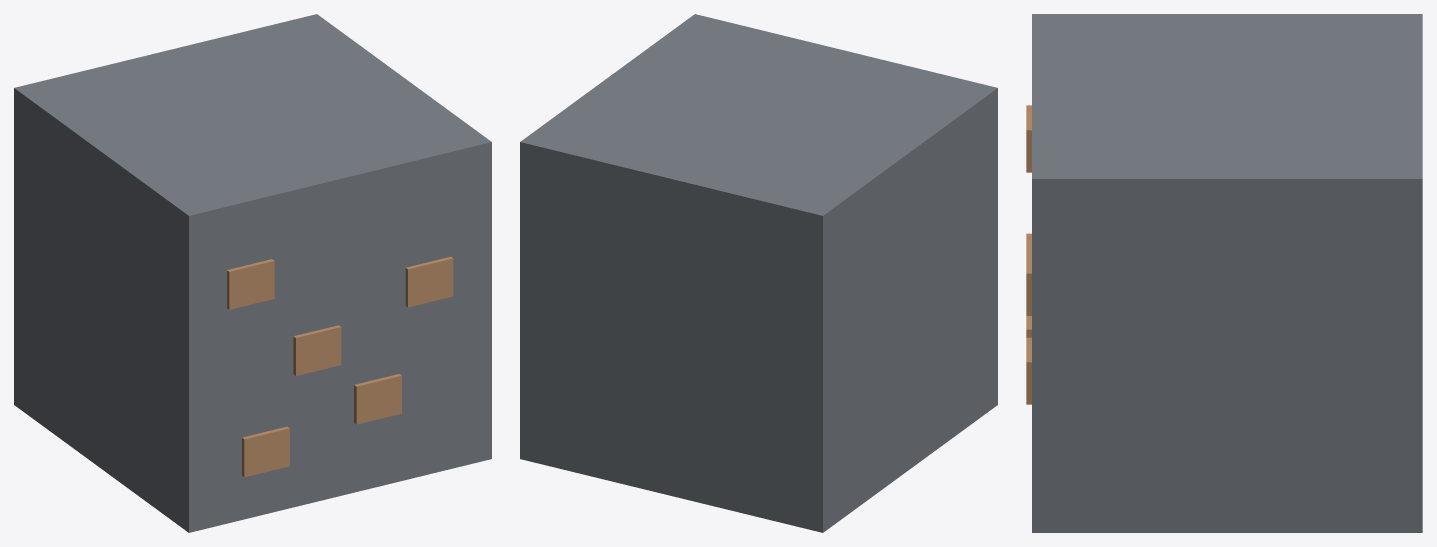
File: iron_ore.glb
The picture shows the model from 3 angles, left to right: view 1: azimuth 30°, elevation 25°; view 2: azimuth 150°, elevation 25°; view 3: azimuth 270°, elevation 25°; orthographic projection. The views are drawn at different scales.
Visible parts, largest first — view 1: iron_ore; view 2: iron_ore; view 3: iron_ore.
Boxes of the visible parts, left/top/right/bottom form: iron_ore: left=14, top=14, right=491, bottom=532; iron_ore: left=520, top=14, right=997, bottom=532; iron_ore: left=1026, top=14, right=1422, bottom=532.
Bounding box in the file's own units: 1 × 1 × 1.01.
